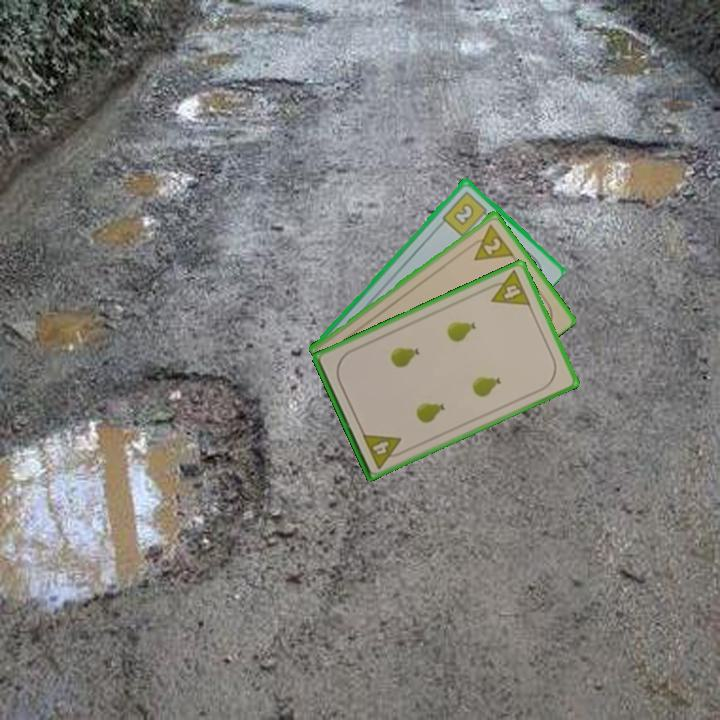2b: (438, 187, 493, 239)
2p: (464, 220, 516, 263)
4p: (482, 266, 534, 309), (359, 429, 409, 471)
